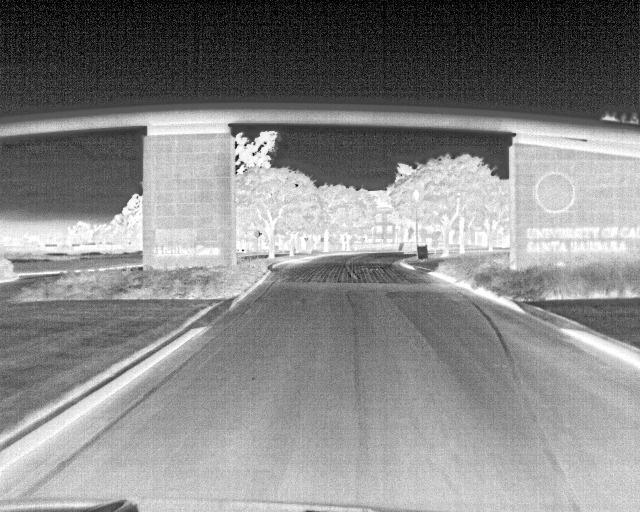car: (3, 256, 20, 284)
